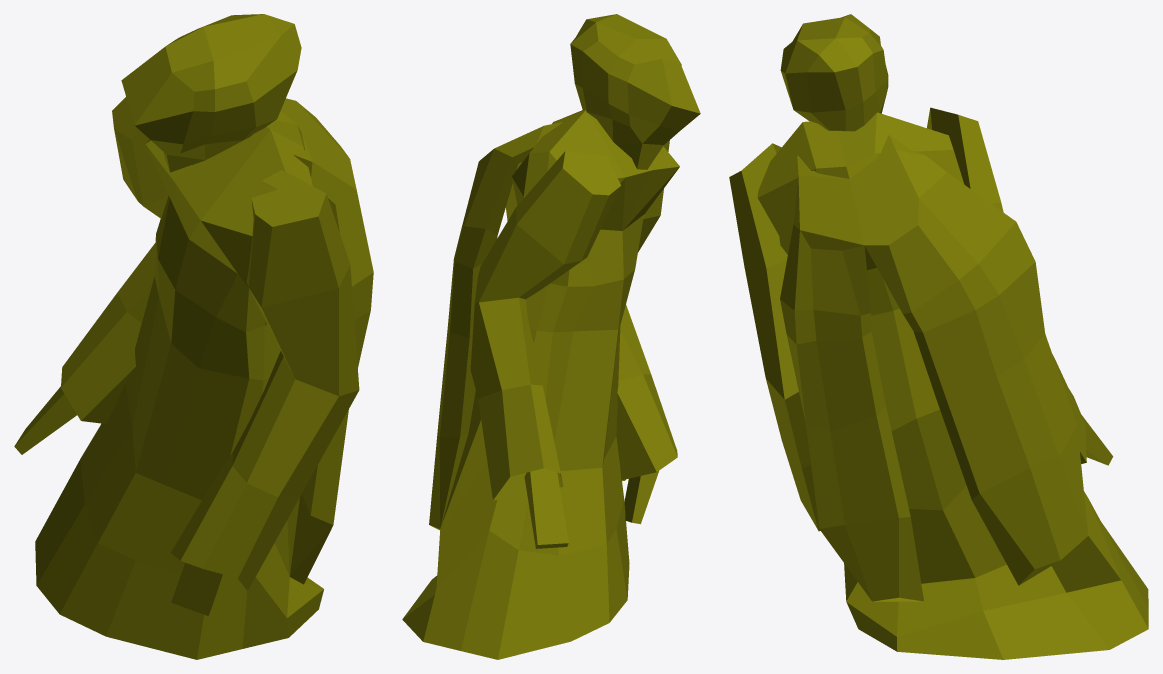
File: weeping angle.fbx
3 renders of one model, left to right at view 1: azimuth 30°, elevation 25°; view 2: azimuth 150°, elevation 25°; view 3: azimuth 270°, elevation 25°, orthographic. The views are drawn at different scales.
Parts seen in each view (by area): view 1: Cube.047; view 2: Cube.047; view 3: Cube.047.
Part boxes in pixels (bbox=[...]): Cube.047: bbox=[14, 14, 373, 659]; Cube.047: bbox=[402, 14, 700, 659]; Cube.047: bbox=[729, 14, 1148, 659].
Size of the model in its own units: 0.9723 by 2.47 by 1.63.
